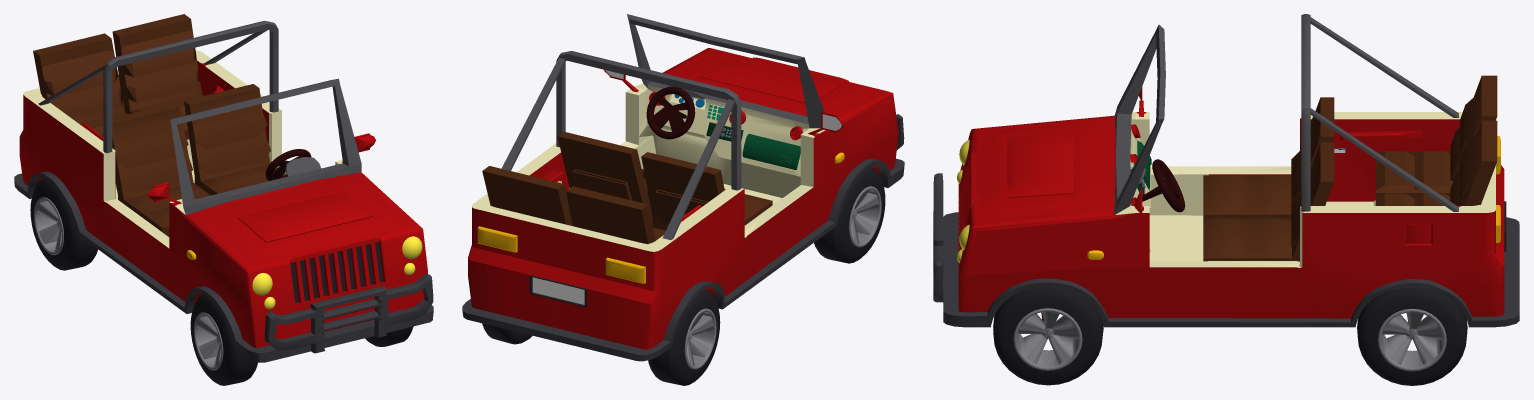
Rendered from jeep.fbx.
3 renders of one model, left to right at view 1: azimuth 30°, elevation 25°; view 2: azimuth 150°, elevation 25°; view 3: azimuth 270°, elevation 25°, orthographic. The views are drawn at different scales.
Visible parts, largest first — view 1: car, car teker2, car teker3, car teker4; view 2: car, car teker2, car teker3, car teker1; view 3: car, car teker1, car teker4.
Boxes of the visible parts, x1,y1,x2,y2 form: car: (14,14,433,362); car teker2: (30,179,97,270); car teker3: (190,294,257,385); car teker4: (365,326,413,346); car: (462,14,904,361); car teker2: (648,289,720,385); car teker3: (814,167,885,263); car teker1: (482,323,532,344); car: (933,14,1519,327); car teker1: (1357,287,1467,385); car teker4: (993,287,1103,385).
Size of the model in its own units: 355 by 358 by 681.
1 material, 1 textured.
